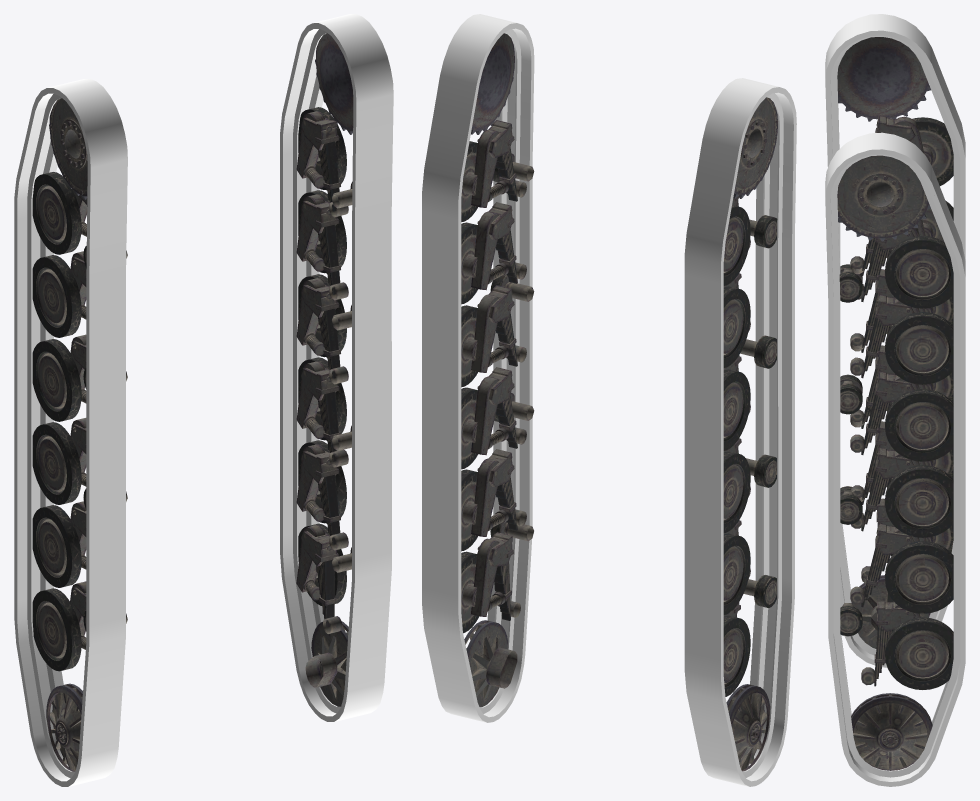
Rendered from Chassis.glb.
The picture shows the model from 3 angles, left to right: view 1: azimuth 30°, elevation 25°; view 2: azimuth 150°, elevation 25°; view 3: azimuth 270°, elevation 25°; orthographic projection. The views are drawn at different scales.
Visible parts, largest first — view 1: set_1_group_0, set_0_group_0, set_3_group_0, set_2_group_0; view 2: set_1_group_0, set_0_group_0, set_2_group_0, set_3_group_0; view 3: set_2_group_0, set_0_group_0, set_3_group_0, set_1_group_0.
Boxes of the visible parts, left/top/right/bottom form: set_1_group_0: left=14, top=79, right=127, bottom=786; set_0_group_0: left=280, top=14, right=393, bottom=721; set_3_group_0: left=32, top=98, right=127, bottom=771; set_2_group_0: left=296, top=33, right=353, bottom=706; set_1_group_0: left=684, top=78, right=796, bottom=786; set_0_group_0: left=422, top=14, right=534, bottom=722; set_2_group_0: left=461, top=33, right=534, bottom=707; set_3_group_0: left=723, top=97, right=777, bottom=771; set_2_group_0: left=837, top=155, right=953, bottom=770; set_0_group_0: left=825, top=132, right=965, bottom=786; set_3_group_0: left=837, top=37, right=953, bottom=648; set_1_group_0: left=825, top=14, right=965, bottom=667.
Size of the model in its own units: 2.47 by 5.43 by 1.08.
Materials: 4 (2 with a texture image).
